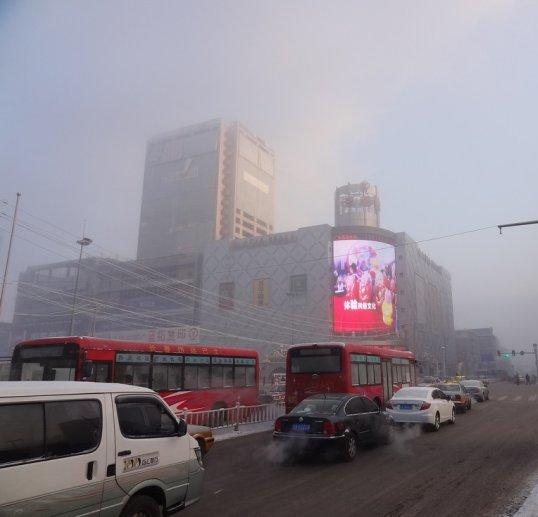bus: (7, 333, 261, 428), (283, 339, 420, 418)
car: (1, 379, 205, 516), (272, 391, 395, 460), (134, 411, 216, 459), (384, 385, 457, 430), (432, 381, 472, 413), (460, 378, 490, 403)
